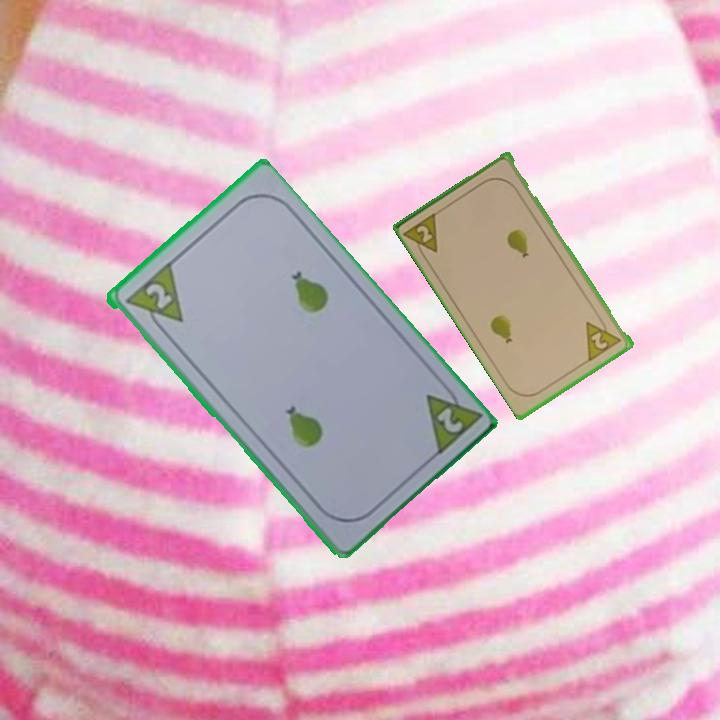2p: (582, 312, 626, 364), (402, 208, 441, 262), (141, 279, 175, 313), (432, 403, 465, 436)
